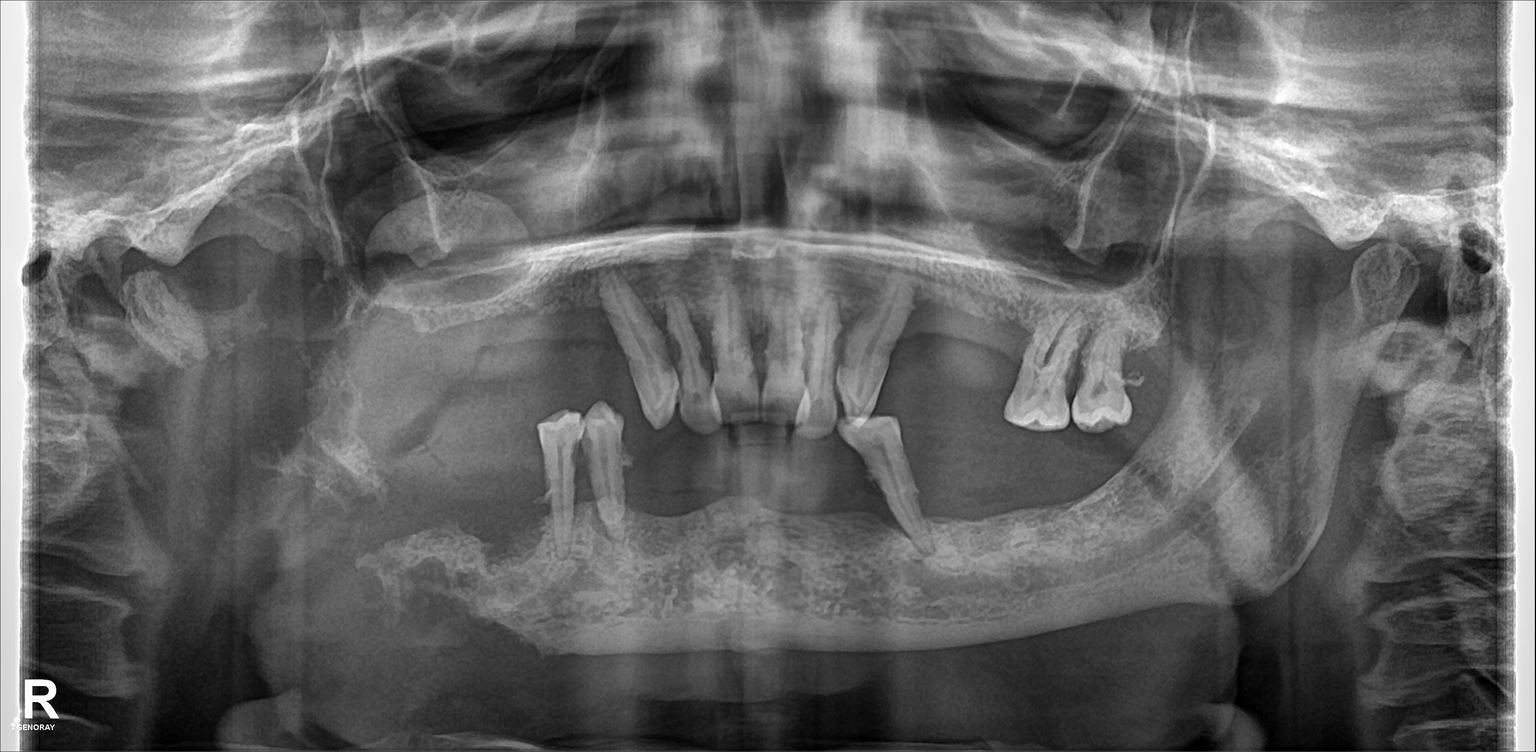Missing Tooth: (365, 303, 420, 420), (968, 445, 1028, 550), (639, 441, 696, 551), (428, 298, 477, 423), (529, 294, 581, 407), (367, 469, 428, 563), (704, 447, 757, 554), (1106, 441, 1161, 532), (968, 281, 1016, 384), (443, 454, 492, 553), (1043, 441, 1092, 539), (914, 287, 958, 390), (484, 296, 521, 417), (508, 450, 547, 556), (1129, 326, 1177, 410), (816, 449, 854, 548), (929, 447, 964, 550), (771, 447, 797, 559)
